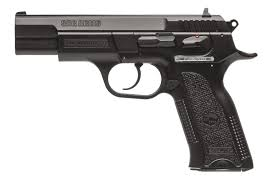gun: (12, 9, 258, 175)
